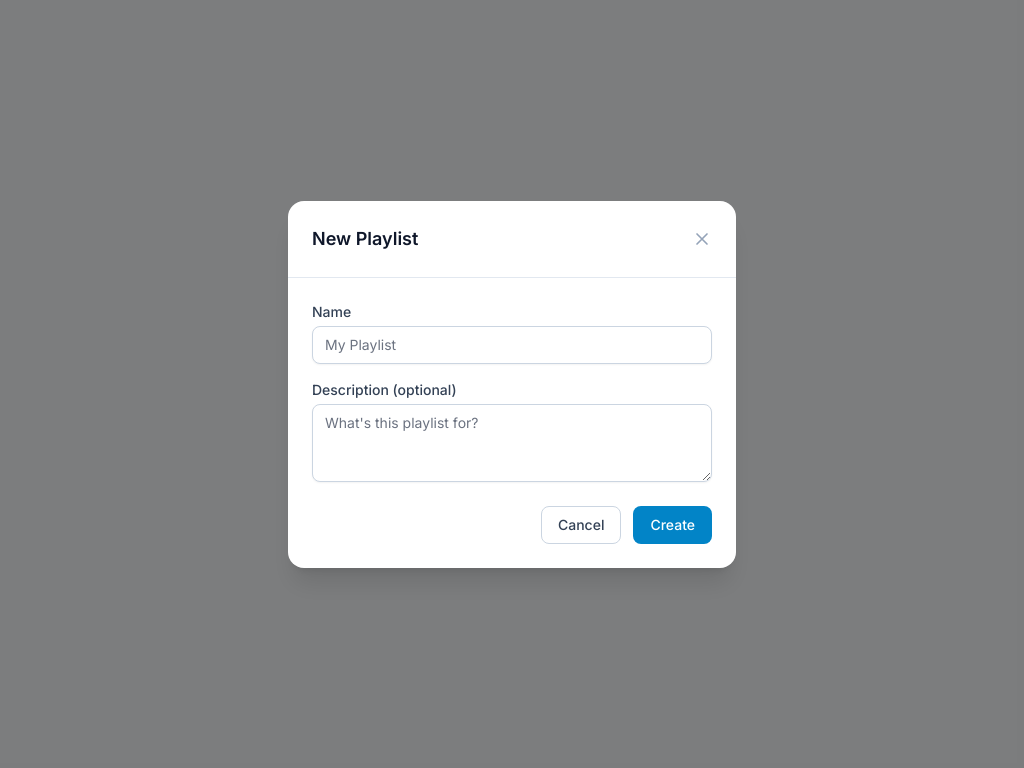
Test: CreatePlaylistModal › error handling › shows fallback error message when no message in response
This screenshot has width=1024, height=768.
In the field labelled "Name": coordinates (512, 344) [312,326,712,364], type "Test"
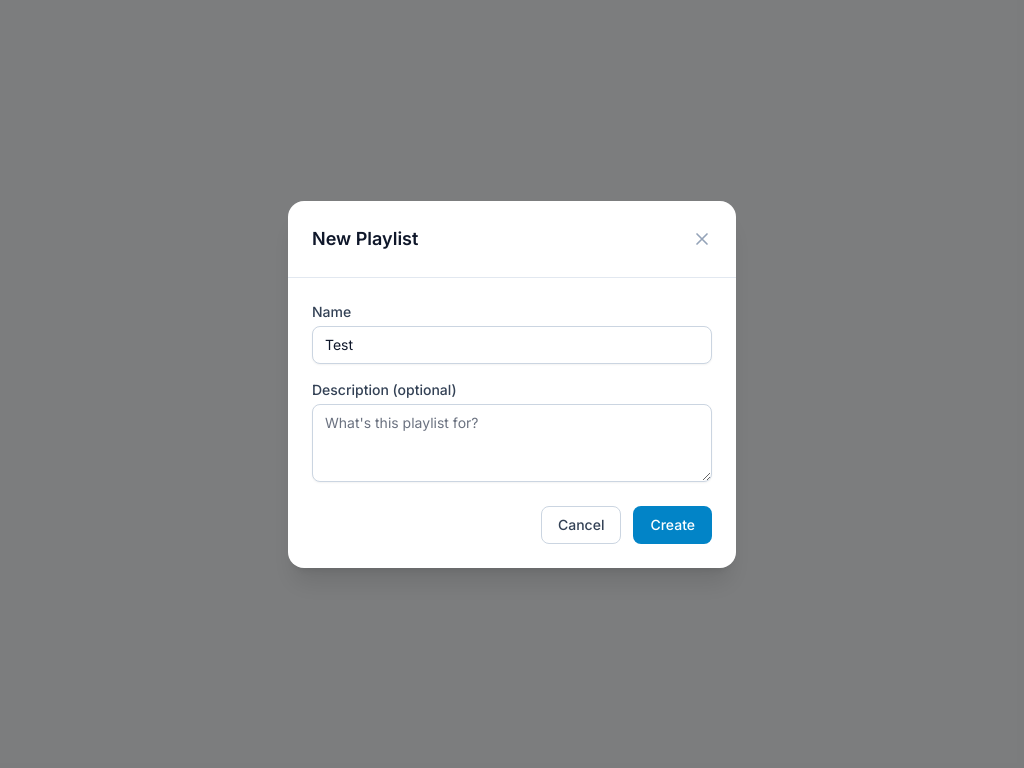
Submit the form, box [288,278,736,568]
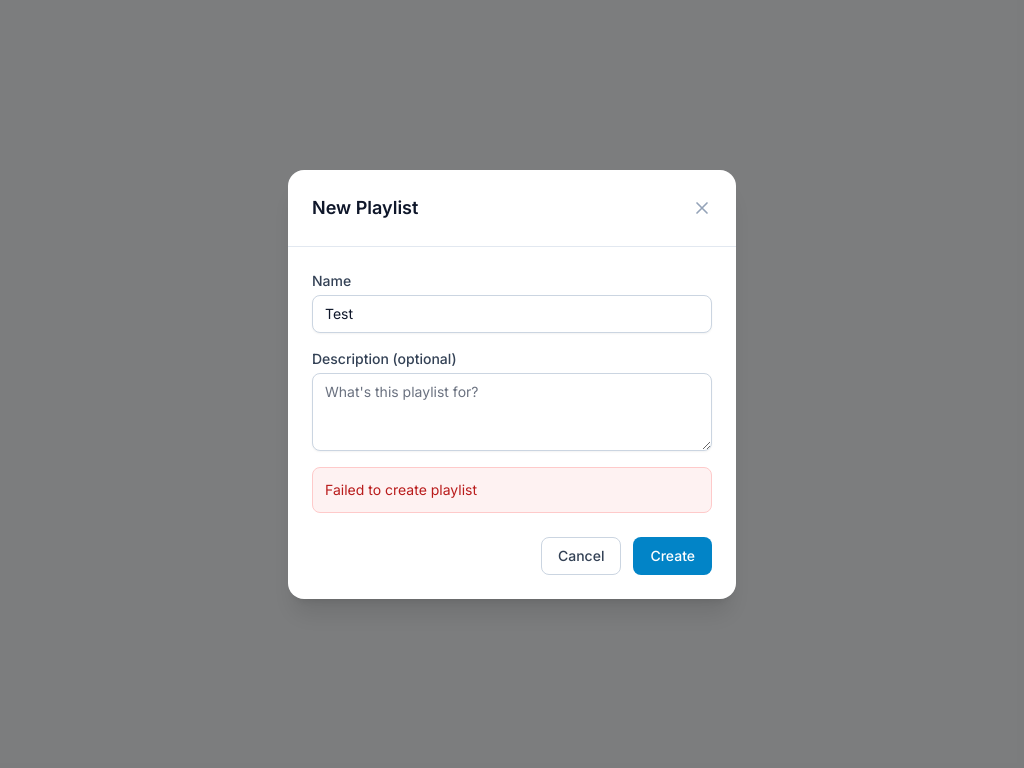
Now the text "Failed to create playlist" is shown, box [312,466,712,512]
